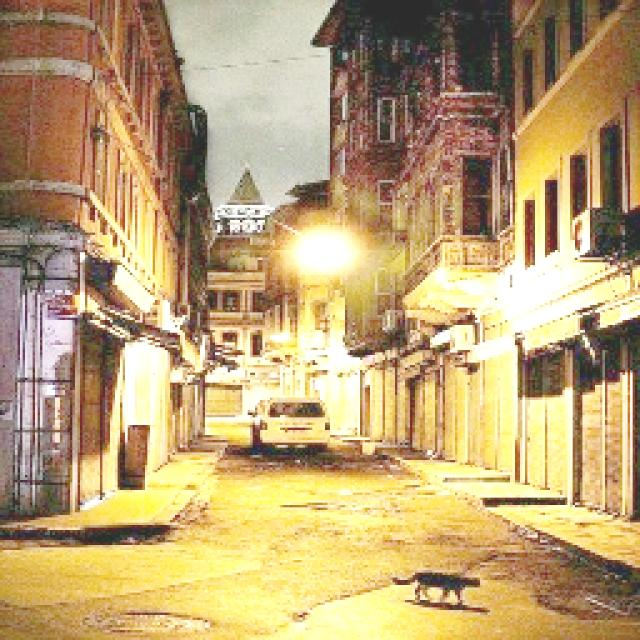cat: (384, 549, 494, 626)
